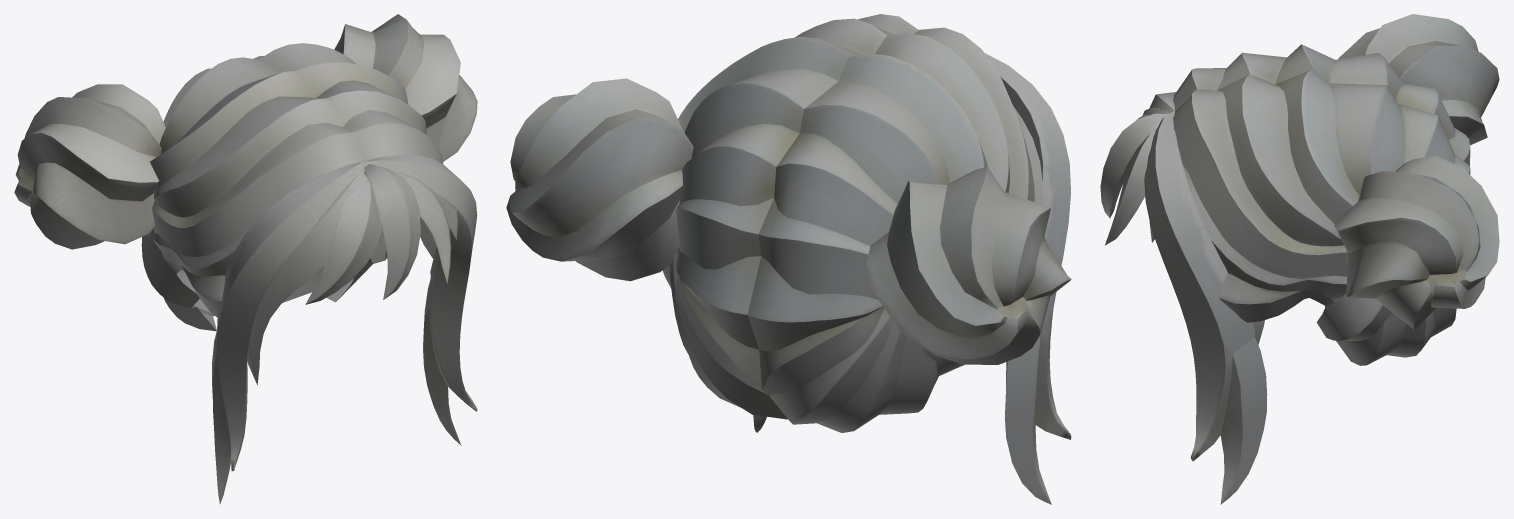
The model's file is hair-buns.glb.
The picture shows the model from 3 angles, left to right: view 1: azimuth 30°, elevation 25°; view 2: azimuth 150°, elevation 25°; view 3: azimuth 270°, elevation 25°; orthographic projection. The views are drawn at different scales.
Parts seen in each view (by area): view 1: Hair_Buns; view 2: Hair_Buns; view 3: Hair_Buns.
Part boxes in pixels (x1,y1,x2,y2): Hair_Buns: (14,14,477,504); Hair_Buns: (506,14,1071,504); Hair_Buns: (1100,14,1499,504).
Bounding box in the file's own units: 0.3015 × 0.2491 × 0.2368.
1 material, 1 textured.
